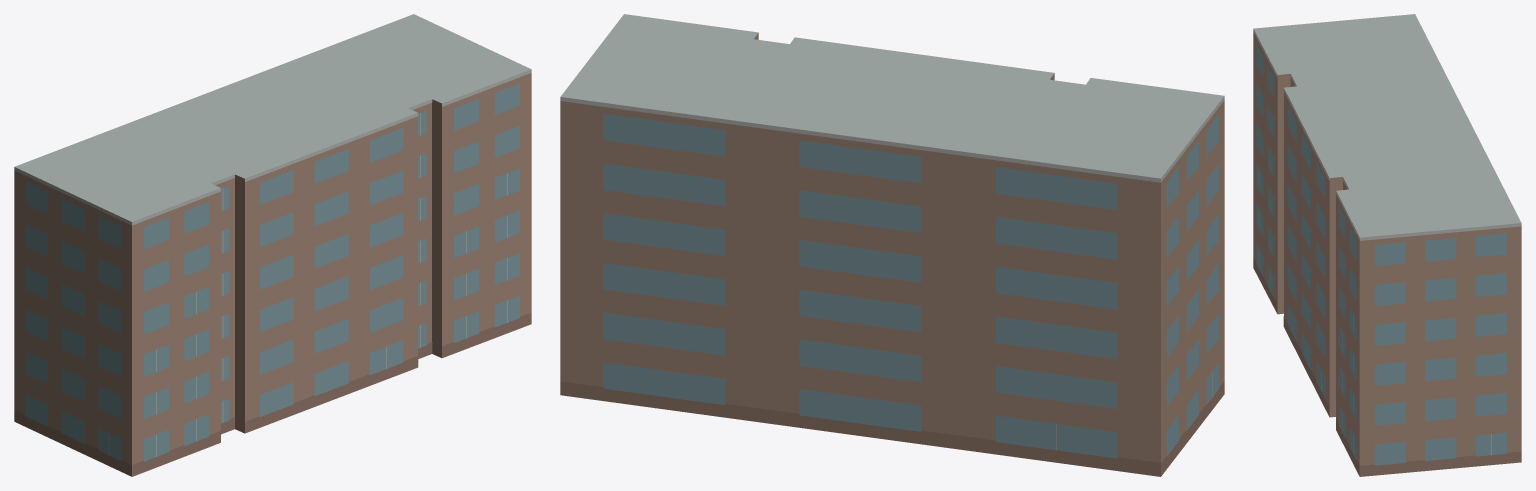
File: survey-upis-32707286.glb
The picture shows the model from 3 angles, left to right: view 1: azimuth 30°, elevation 25°; view 2: azimuth 150°, elevation 25°; view 3: azimuth 270°, elevation 25°; orthographic projection. The views are drawn at different scales.
Parts seen in each view (by area): view 1: survey-upis-32707286.tmp; view 2: survey-upis-32707286.tmp; view 3: survey-upis-32707286.tmp.
Part boxes in pixels (x1,y1,x2,y2): survey-upis-32707286.tmp: [14, 14, 531, 476]; survey-upis-32707286.tmp: [560, 14, 1224, 476]; survey-upis-32707286.tmp: [1253, 14, 1521, 476].
Bounding box in the file's own units: 35.58 × 17.75 × 18.05.
